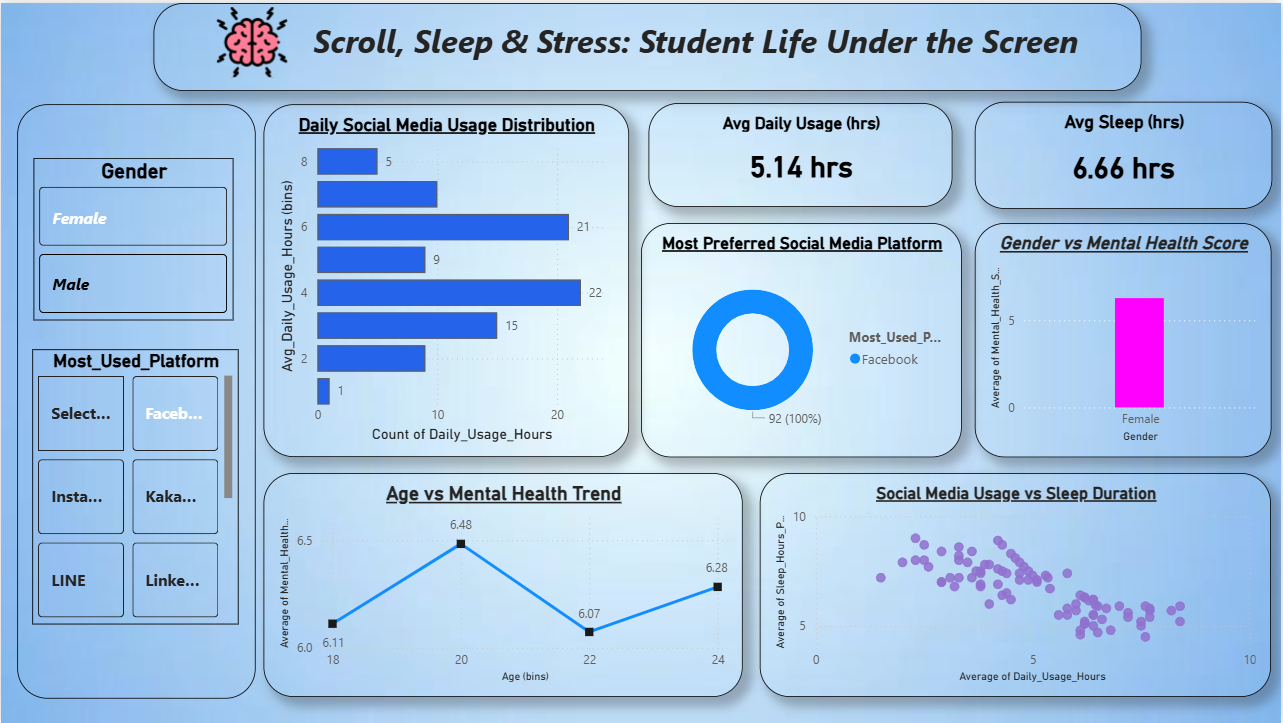

This screenshot's page, from the dashboard's own definition file:
{"tool":"powerbi","page":{"name":"Project","canvas":[1280,720],"ordinal":0},"visuals":[{"type":"scatterChart","title":"Social Media Usage vs Sleep Duration","fields":{"Category":["Social.Student_ID"],"X":["Avg(Social.Avg_Daily_Usage_Hours)"],"Y":["Avg(Social.Sleep_Hours_Per_Night)"]},"box":[758.9,470.5,511.5,224.4],"z":0},{"type":"textbox","box":[152.9,0,988.3,88],"z":1000},{"type":"clusteredBarChart","title":"Daily Social Media Usage Distribution","fields":{"Category":["Social.Avg_Daily_Usage_Hours (bins)"],"Y":["CountNonNull(Social.Avg_Daily_Usage_Hours)"]},"box":[262.5,101.4,365.3,352.8],"z":2000},{"type":"shape","box":[15.9,101,238.1,594.4],"z":3000},{"type":"advancedSlicerVisual","fields":{"Values":["Social.Most_Used_Platform"]},"box":[31.7,346.3,206.3,275.6],"z":4000},{"type":"advancedSlicerVisual","fields":{"Values":["Social.Gender"]},"box":[31.9,155.6,200,162.5],"z":5000},{"type":"card","title":"Avg Daily Usage (hrs)","fields":{"Values":["Social.AvgUsageText"]},"box":[647.2,100,304.2,104.2],"z":6000},{"type":"card","title":"Avg Sleep (hrs)","fields":{"Values":["Social.AvgSleepText1"]},"box":[973.6,98.6,297.2,106.9],"z":7000},{"type":"donutChart","title":"Most Preferred Social Media Platform","fields":{"Category":["Social.Most_Used_Platform"],"Y":["CountNonNull(Social.Most_Used_Platform)"]},"box":[640.6,219.6,320.9,234],"z":8000},{"type":"clusteredColumnChart","title":"Gender vs Mental Health Score","fields":{"Category":["Social.Gender"],"Y":["Avg(Social.Mental_Health_Score)"]},"box":[973.6,219.6,296.8,234],"z":9000},{"type":"lineChart","title":"Age vs Mental Health Trend","fields":{"Category":["Social.Age (bins)"],"Y":["Avg(Social.Mental_Health_Score)"]},"box":[263,470.5,479,224.4],"z":10000},{"type":"actionButton","box":[185.7,0,130,78.6],"z":11000}]}

Visuals, with their boxes in screenshot pixels (x1, y1, x2, y2), scaled from the page's 1280x720 canvas onto the 1283x723 screenshot:
"Social Media Usage vs Sleep Duration" scatterChart: 761,472,1273,698
textbox: 153,0,1144,88
"Daily Social Media Usage Distribution" clusteredBarChart: 263,102,629,456
shape: 16,101,255,698
advancedSlicerVisual - Social.Most_Used_Platform: 32,348,239,624
advancedSlicerVisual - Social.Gender: 32,156,232,319
"Avg Daily Usage (hrs)" card: 649,100,954,205
"Avg Sleep (hrs)" card: 976,99,1274,206
"Most Preferred Social Media Platform" donutChart: 642,221,964,455
"Gender vs Mental Health Score" clusteredColumnChart: 976,221,1273,455
"Age vs Mental Health Trend" lineChart: 264,472,744,698
actionButton: 186,0,316,79
